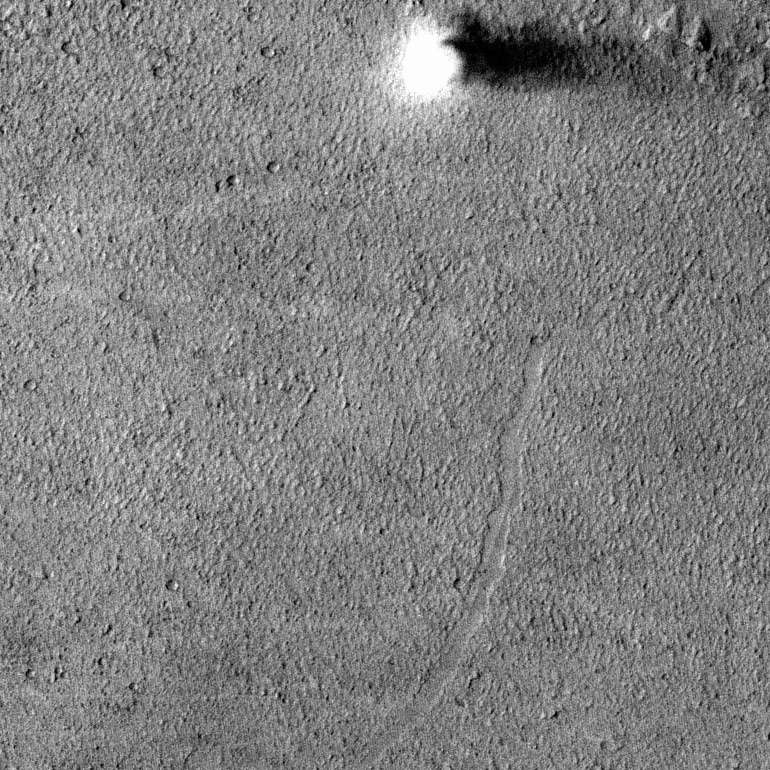dust_devil: (392, 8, 680, 106)
